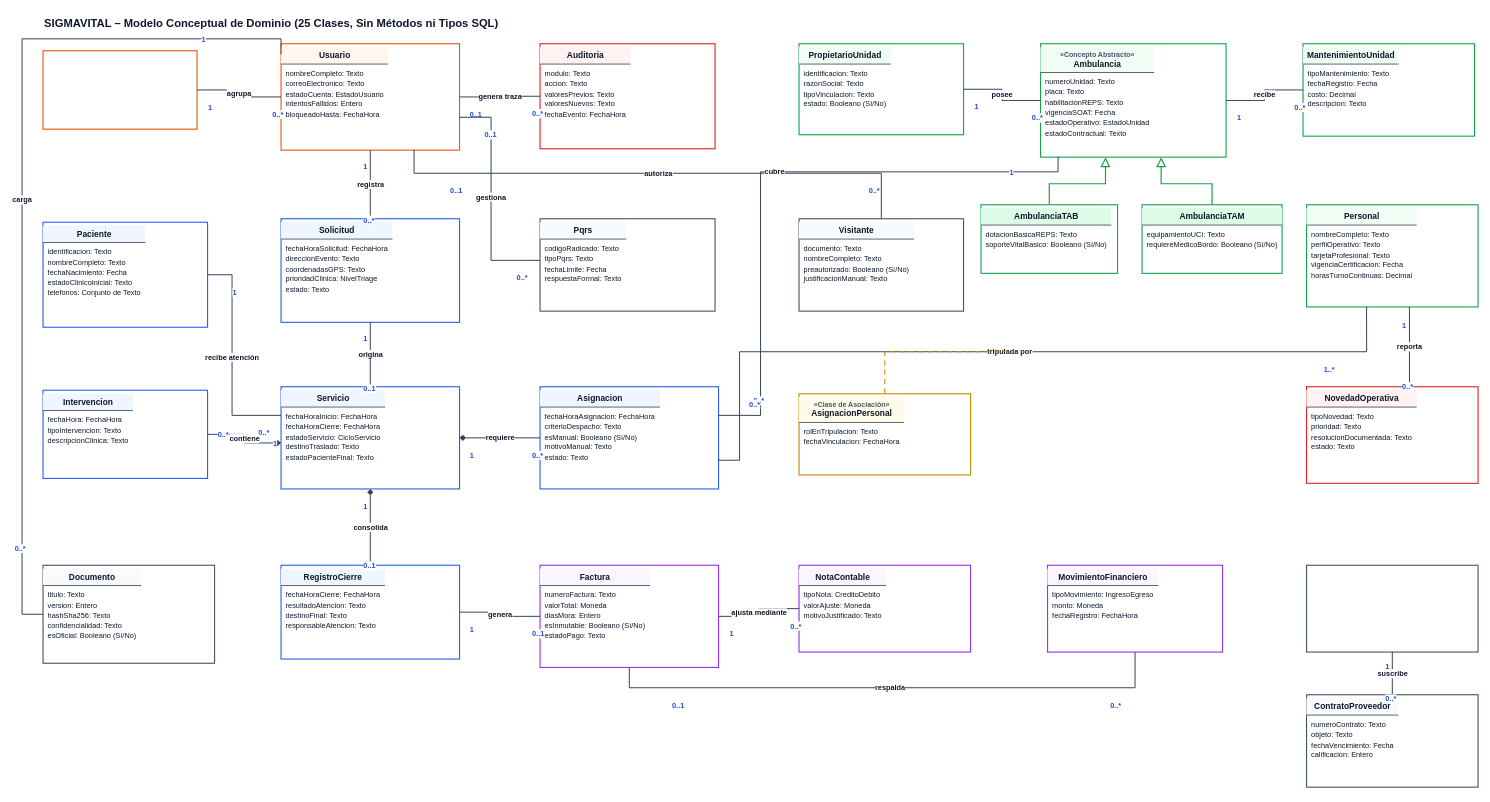
Some shapes in this 1490 by 802 pixel diagram are drawn without their labels. Here are the shapes that lost their labels. From the top down, the centre of each, then its label:
[119,89]: Rol nombre: Texto descripcion: Texto
[1392,608]: Proveedor nit: Texto razonSocial: Texto tipoServicio: Texto estado: Texto
